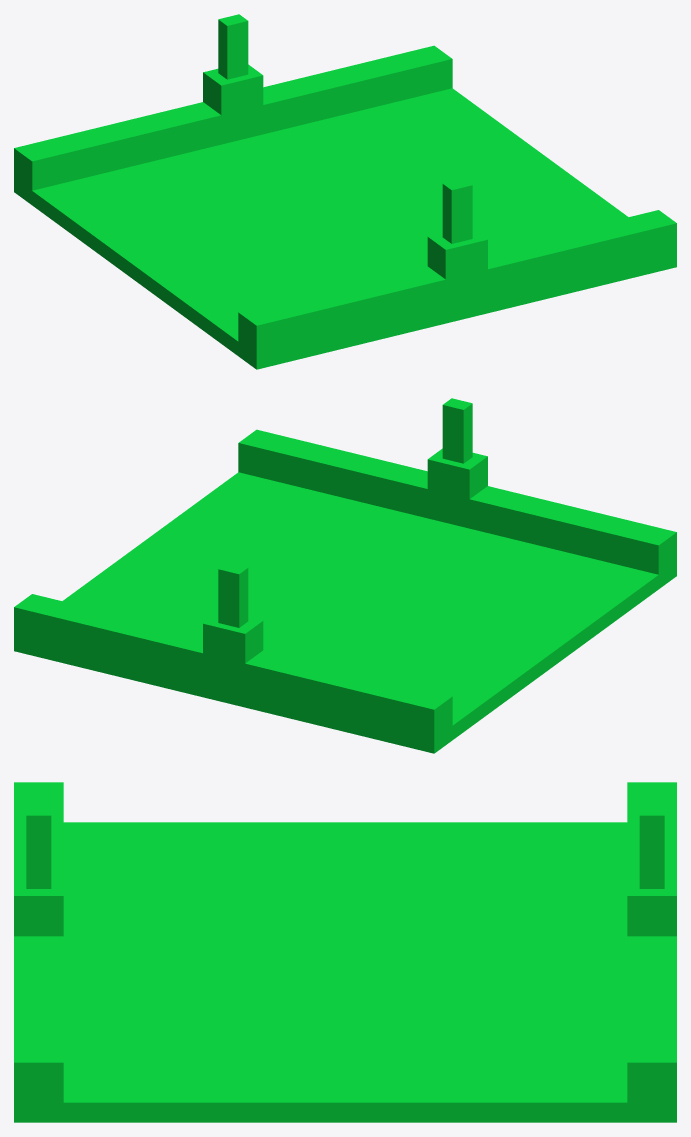
The model's file is checkpoint.fbx.
3 renders of one model, top to bottom at view 1: azimuth 30°, elevation 25°; view 2: azimuth 150°, elevation 25°; view 3: azimuth 270°, elevation 25°, orthographic. The views are drawn at different scales.
Parts seen in each view (by area): view 1: Cube; view 2: Cube; view 3: Cube.
Part boxes in pixels (left/top/right/bottom): Cube: left=14, top=14, right=676, bottom=369; Cube: left=14, top=398, right=676, bottom=753; Cube: left=14, top=782, right=676, bottom=1122.
Bounding box in the file's own units: 3000 × 869 × 3000.
